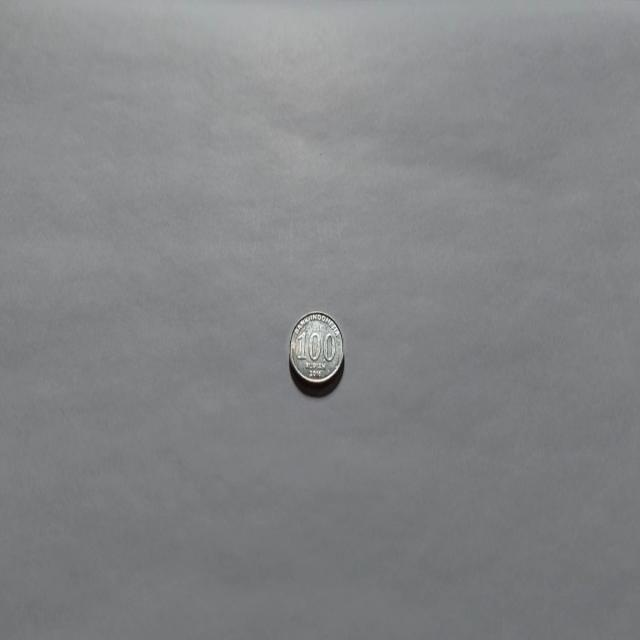seratus rupiah: (288, 310, 344, 388)
